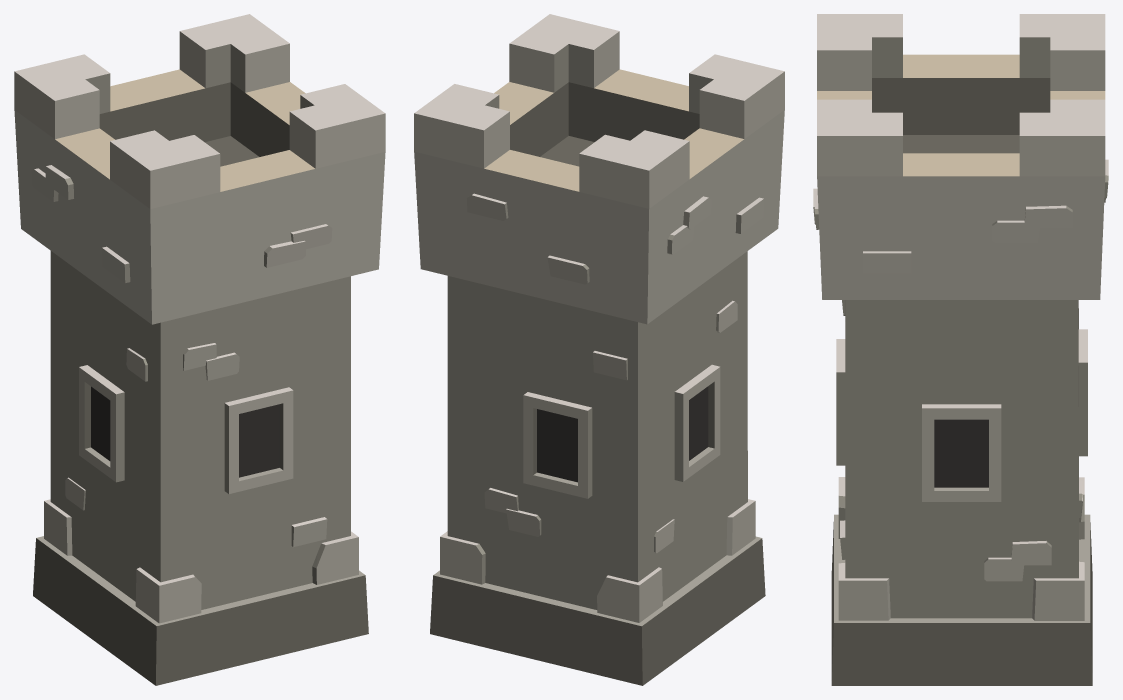
Rendered from TB_Str_Tower.FBX.
3 views of the same model, side by side, from view 1: azimuth 30°, elevation 25°; view 2: azimuth 150°, elevation 25°; view 3: azimuth 270°, elevation 25° (orthographic). The views are drawn at different scales.
Visible parts, largest first — view 1: TB_Str_Tower; view 2: TB_Str_Tower; view 3: TB_Str_Tower.
Boxes of the visible parts, x1,y1,x2,y2 form: TB_Str_Tower: (14, 14, 385, 685); TB_Str_Tower: (414, 14, 784, 685); TB_Str_Tower: (813, 14, 1108, 685).
Size of the model in its own units: 3.33 by 6.82 by 3.29.
